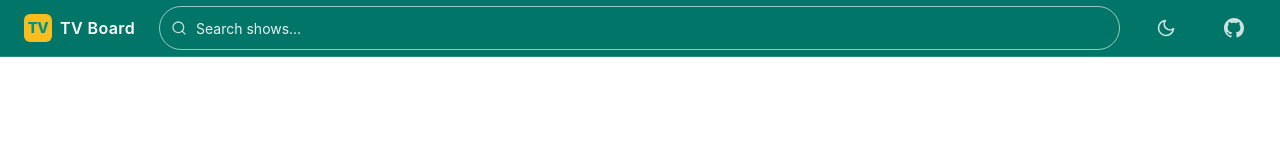
Scenario: AppHeader › hard-clears: navigates to dashboard when the clear button is clicked
Type "lost" into the search field with test id "search-input" at (640, 28), box [159,6,1120,50]
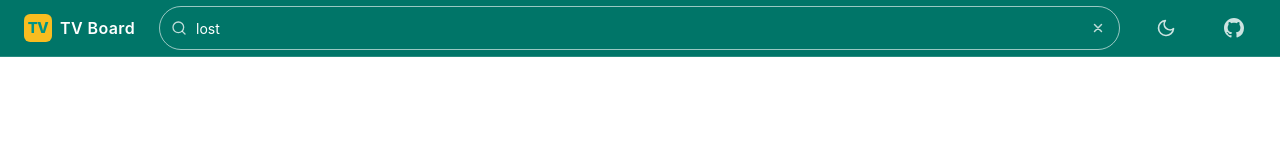
Click the button with test id "search-clear-btn" at (1098, 28), box [1088,18,1108,38]
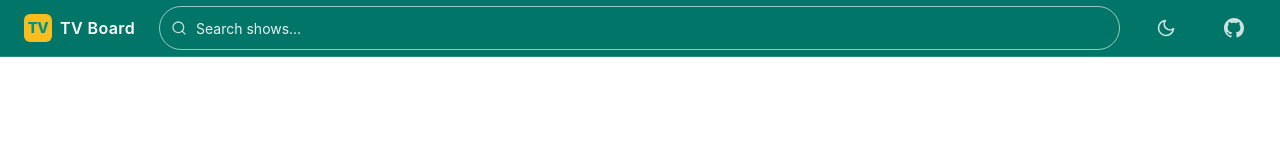
Result: the search field with test id "search-input" is empty at [159,6,1120,50]
